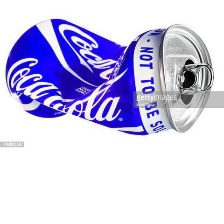can: (3, 6, 222, 143)
